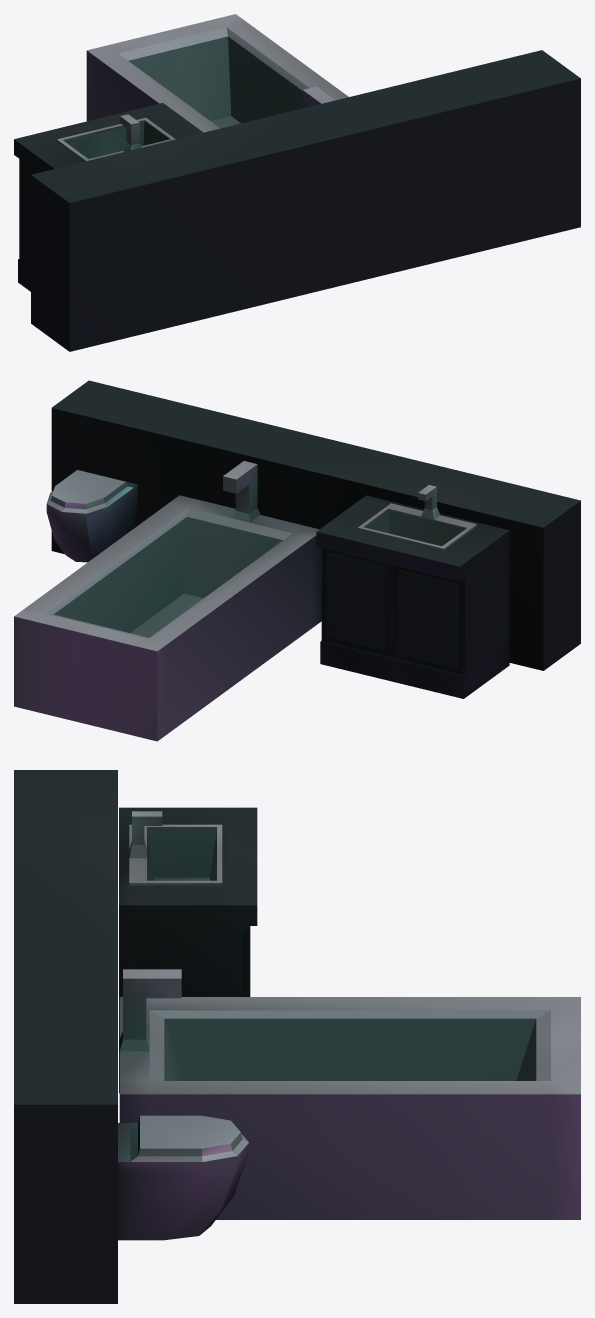
The model's file is freestanding_bathroom.FBX.
3 views of the same model, one above another, from view 1: azimuth 30°, elevation 25°; view 2: azimuth 150°, elevation 25°; view 3: azimuth 270°, elevation 25° (orthographic). The views are drawn at different scales.
Visible parts, largest first — view 1: freestanding bathroom; view 2: freestanding bathroom; view 3: freestanding bathroom.
Boxes of the visible parts, x1,y1,x2,y2 form: freestanding bathroom: (14,14,580,351); freestanding bathroom: (14,380,580,741); freestanding bathroom: (14,770,580,1303).
Bounding box in the file's own units: 3.43 × 1.1 × 2.46.
